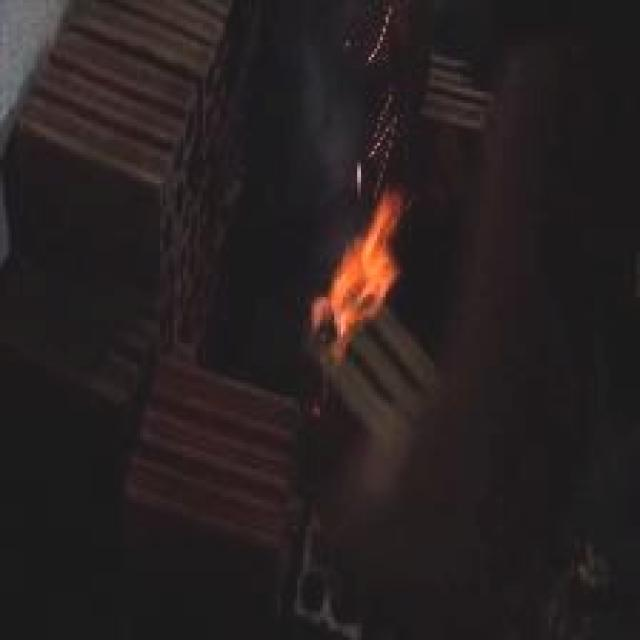fire: (292, 100, 432, 374)
